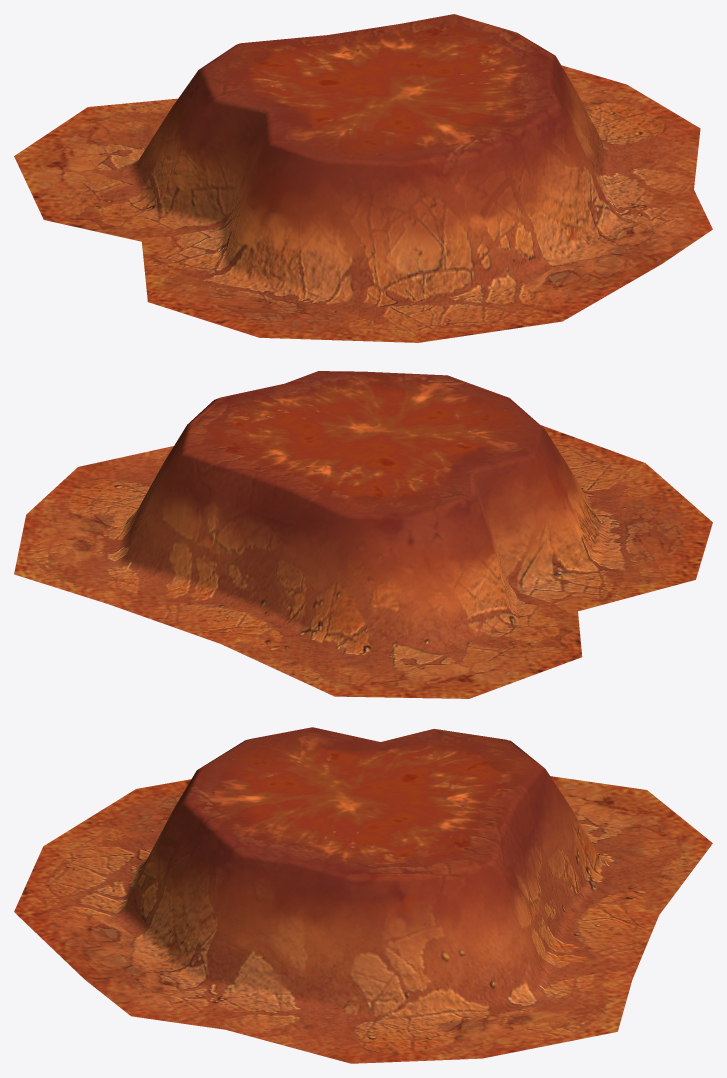
Rendered from Rock_4.fbx.
3 views of the same model, one above another, from view 1: azimuth 30°, elevation 25°; view 2: azimuth 150°, elevation 25°; view 3: azimuth 270°, elevation 25° (orthographic). The views are drawn at different scales.
Parts seen in each view (by area): view 1: Rock_4; view 2: Rock_4; view 3: Rock_4.
Part boxes in pixels (x1,y1,x2,y2): Rock_4: (14,14,712,342); Rock_4: (14,371,712,698); Rock_4: (14,727,712,1063).
Bounding box in the file's own units: 3.9 × 0.6868 × 3.86.
Materials: 1 (1 with a texture image).
